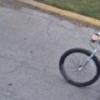bicycles: (58, 28, 100, 88)
